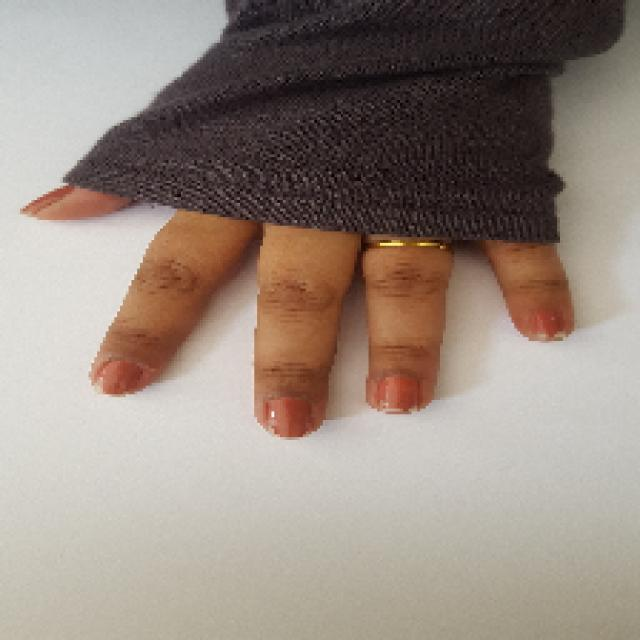Nail: (265, 398, 311, 438), (94, 359, 144, 394), (20, 185, 74, 216), (379, 376, 419, 412), (530, 309, 560, 338)
